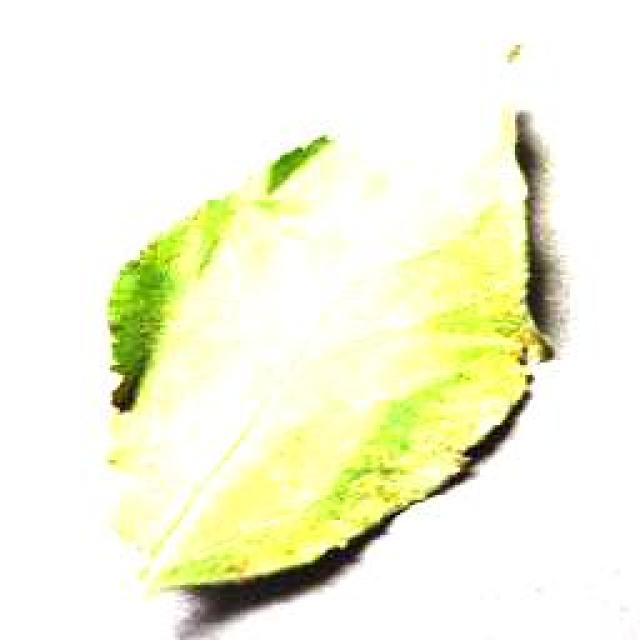apple scab disease: (98, 78, 570, 612)
